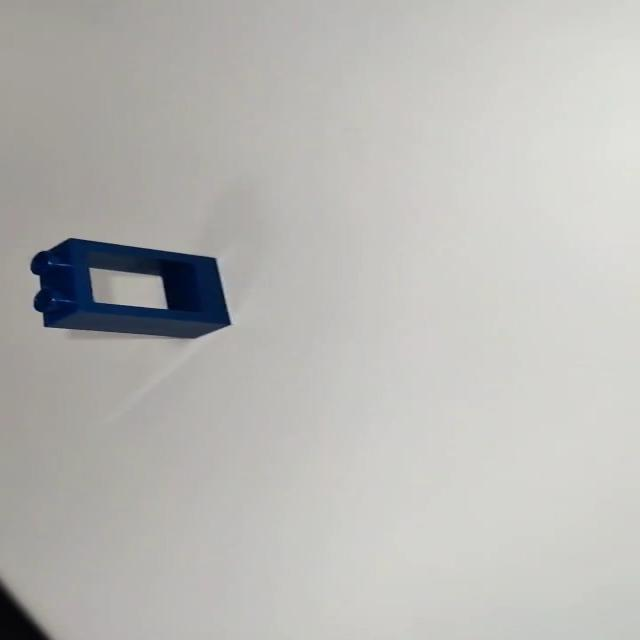W2x1x2: (31, 238, 243, 340)
